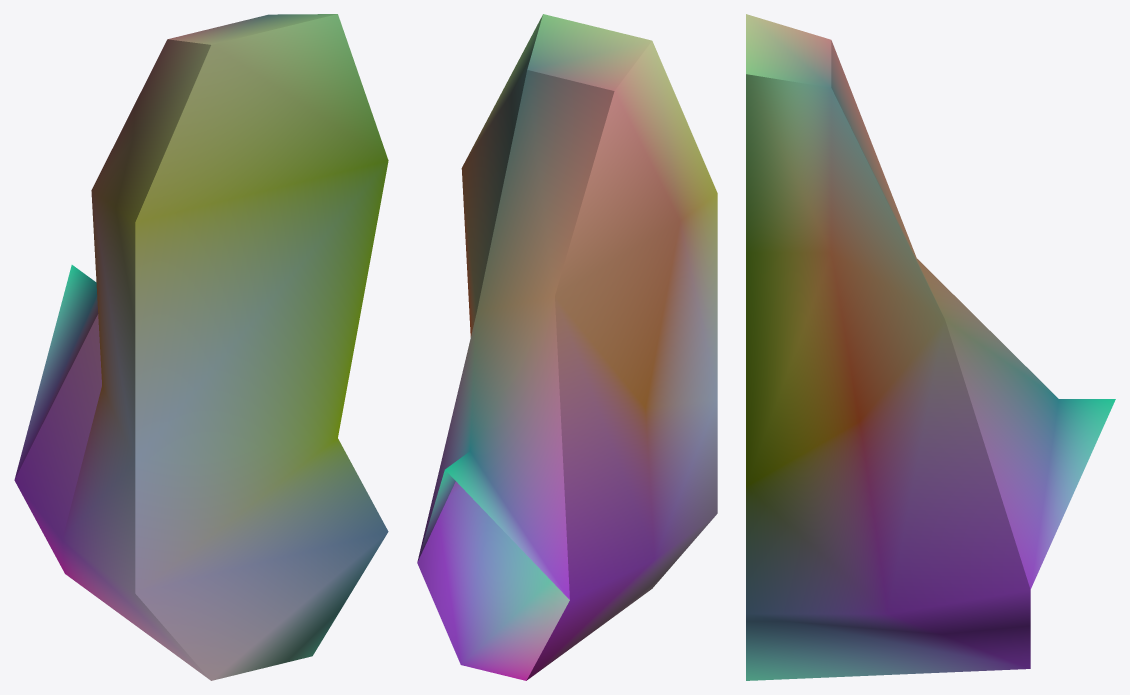
3 renders of one model, left to right at view 1: azimuth 30°, elevation 25°; view 2: azimuth 150°, elevation 25°; view 3: azimuth 270°, elevation 25°, orthographic. The views are drawn at different scales.
Parts seen in each view (by area): view 1: part; view 2: part; view 3: part.
Part boxes in pixels (box(x1,y1,x2,y2)): part: box(14, 14, 388, 680); part: box(417, 14, 717, 680); part: box(746, 14, 1115, 680).
Size of the model in its own units: 10 by 24 by 13.
